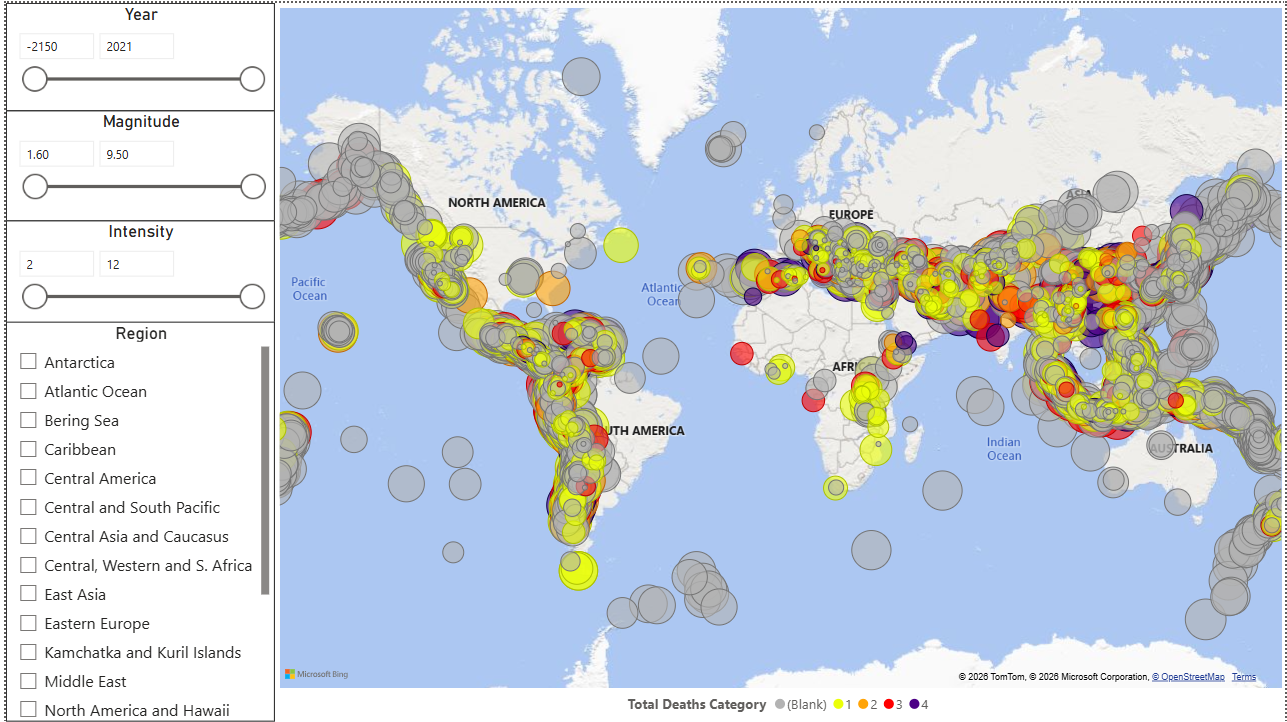

The page's visual inventory and layout, read from the dashboard file:
{"tool":"powerbi","page":{"name":"Map","canvas":[1280,720],"ordinal":2},"visuals":[{"type":"map","title":"Earthquakes Mapped, Size by Damage, Color by Total Deaths","fields":{"Series":["total_earthquakes.total_deaths_description"],"X":["total_earthquakes.longitude"],"Y":["total_earthquakes.LatitudeJitter"],"Size":["total_earthquakes.Magnitude"]},"box":[268.6,0,1011.6,719.8],"z":0},{"type":"slicer","title":"Year","fields":{"Values":["total_earthquakes.year"]},"box":[0,0,268.6,108.1],"z":1000},{"type":"slicer","title":"Magnitude","fields":{"Values":["total_earthquakes.eq_primary"]},"box":[0,107.6,269,110.1],"z":2000},{"type":"slicer","title":"Intensity","fields":{"Values":["total_earthquakes.intensity"]},"box":[0,217.4,268.6,102.3],"z":3000},{"type":"slicer","title":"Region","fields":{"Values":["total_earthquakes.region_name"]},"box":[0,319,269,401],"z":4000}]}

Visuals, with their boxes in screenshot pixels (x1, y1, x2, y2), scaled from the page's 1280x720 canvas onto the 1287x722 screenshot:
"Earthquakes Mapped, Size by Damage, Color by Total Deaths" map: <bbox>270, 0, 1286, 721</bbox>
"Year" slicer: <bbox>0, 0, 270, 108</bbox>
"Magnitude" slicer: <bbox>0, 108, 270, 218</bbox>
"Intensity" slicer: <bbox>0, 218, 270, 321</bbox>
"Region" slicer: <bbox>0, 320, 270, 721</bbox>
